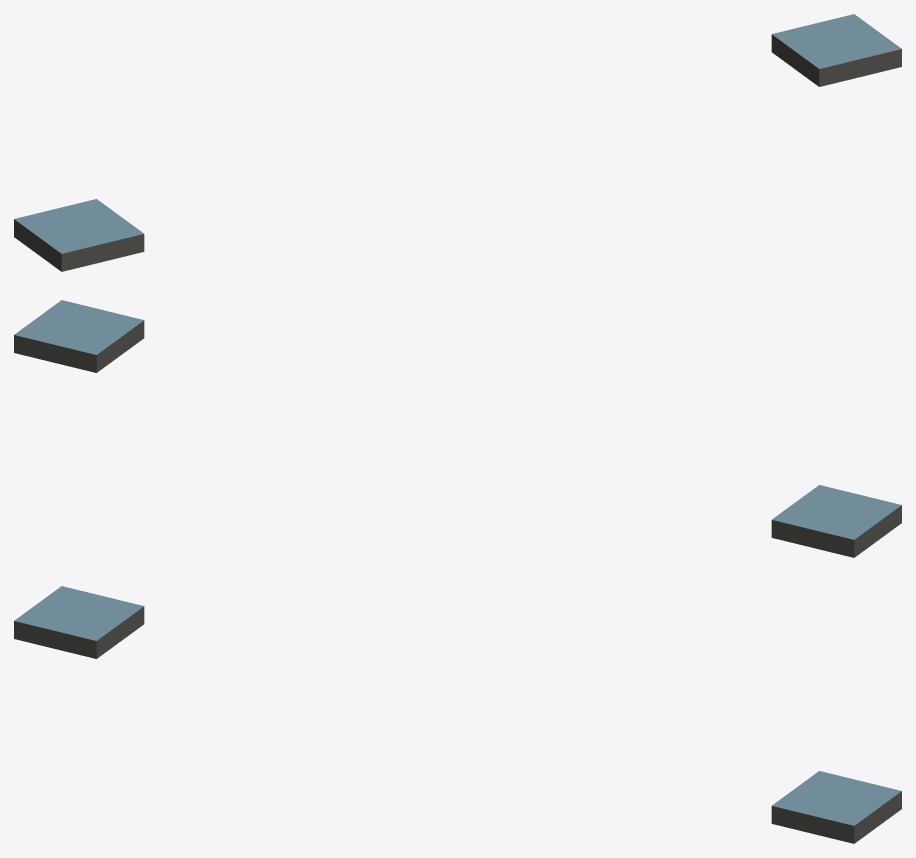
File: 0235-Buildings-shell-pieces-roof-plant-emitRoofPlant-20-triangles-12-20-x-0-25-x-1-20.glb
3 views of the same model, one above another, from view 1: azimuth 30°, elevation 25°; view 2: azimuth 150°, elevation 25°; view 3: azimuth 330°, elevation 25° (orthographic).
Visible parts, largest first — view 1: emitRoofPlant; view 2: emitRoofPlant; view 3: emitRoofPlant.
Boxes of the visible parts, left/top/right/bottom form: emitRoofPlant: left=14, top=14, right=901, bottom=271; emitRoofPlant: left=14, top=300, right=901, bottom=557; emitRoofPlant: left=14, top=586, right=901, bottom=843.
Bounding box in the file's own units: 12.2 × 0.25 × 1.2.
